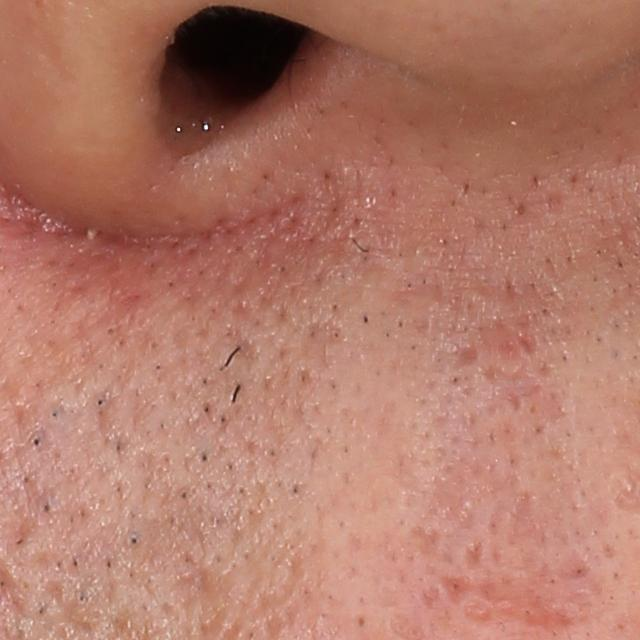atrophic_scar: (474, 574, 580, 639), (474, 307, 555, 387), (250, 552, 306, 620), (442, 573, 476, 611), (441, 343, 477, 375), (464, 534, 491, 574)
